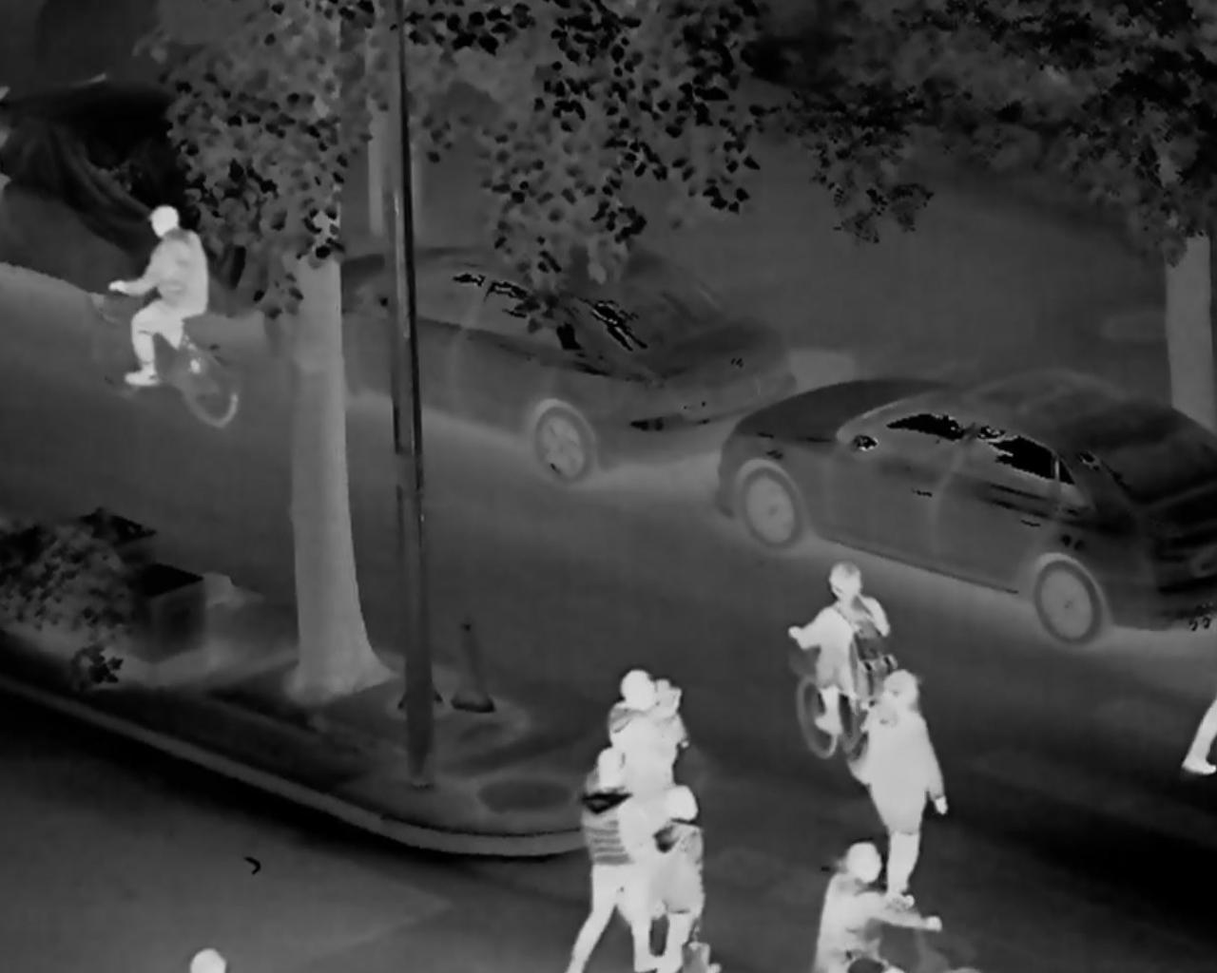person: (110, 196, 224, 411), (792, 552, 904, 760), (844, 672, 952, 887), (817, 824, 952, 973), (568, 743, 646, 973), (616, 652, 689, 834), (651, 790, 723, 973)
